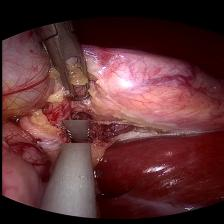Grasper: (40, 40, 93, 102)
Irrigator: (58, 120, 97, 143)
